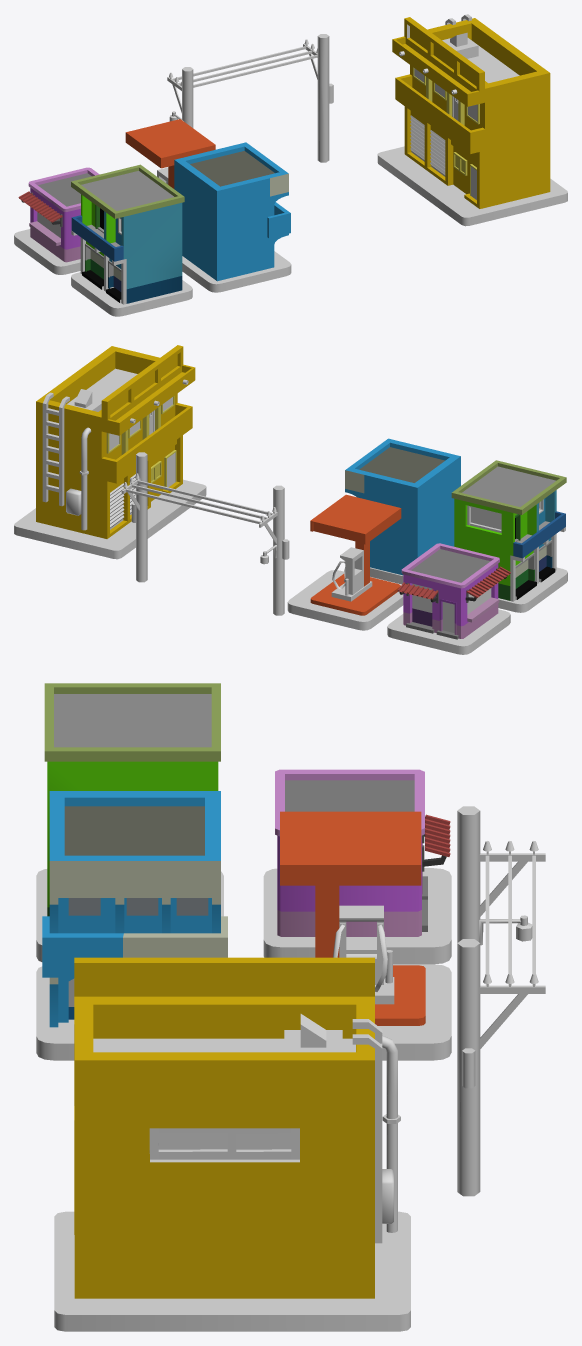
The model's file is starbus_m.fbx.
3 views of the same model, one above another, from view 1: azimuth 30°, elevation 25°; view 2: azimuth 150°, elevation 25°; view 3: azimuth 270°, elevation 25° (orthographic). The views are drawn at different scales.
Parts seen in each view (by area): view 1: starbus_m; view 2: starbus_m; view 3: starbus_m.
Boxes of the visible parts, box(x1,y1,x2,y2) form: starbus_m: box(14, 14, 567, 316); starbus_m: box(14, 345, 567, 654); starbus_m: box(36, 683, 545, 1331).
Bounding box in the file's own units: 2839 × 860 × 1356.
